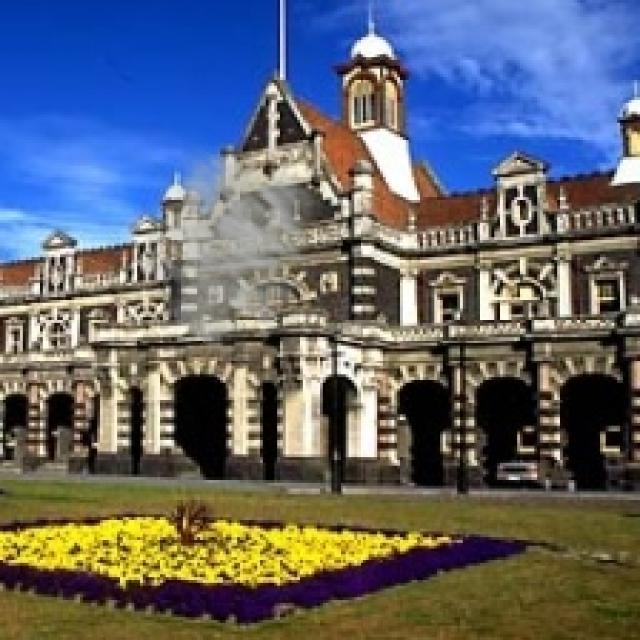Smoke: (132, 137, 352, 360)
